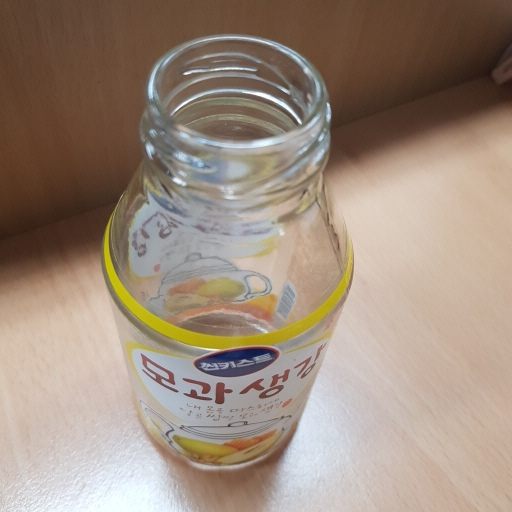Glass_4: (98, 30, 361, 477)
